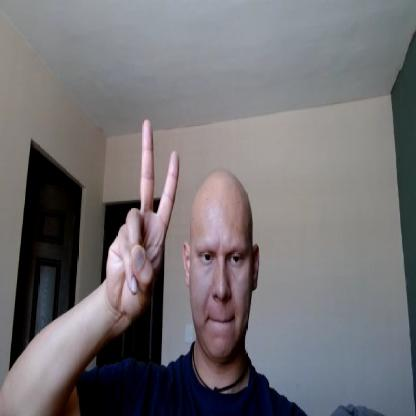V: (107, 119, 180, 320)
